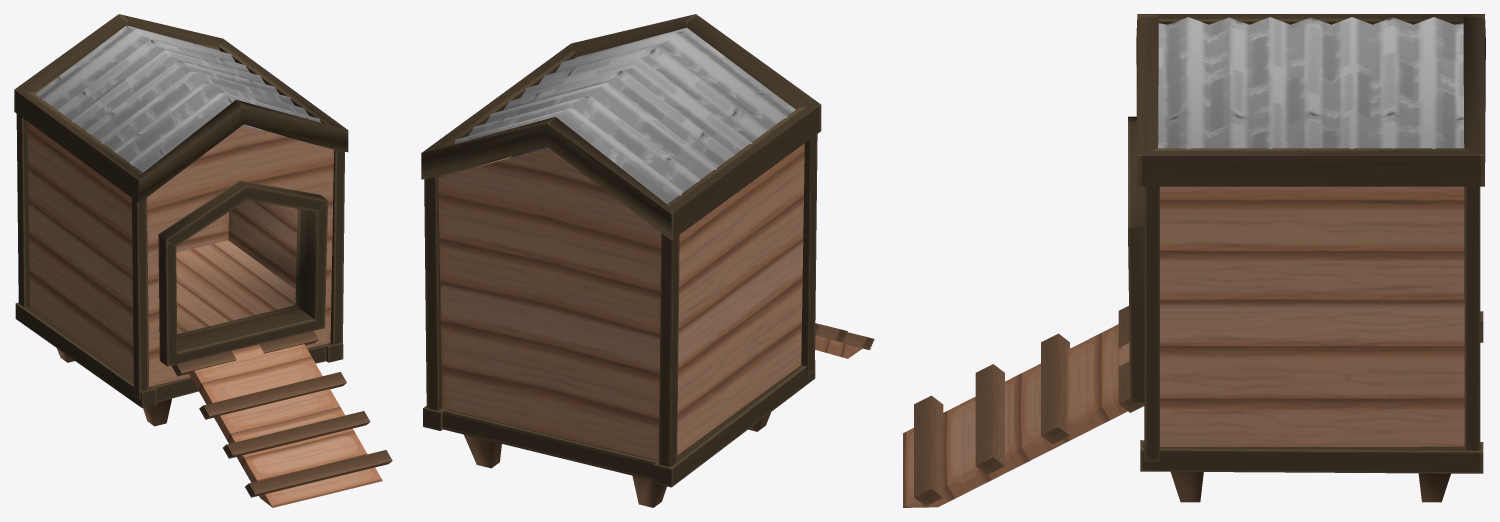
Rendered from Coop_HandObject.fbx.
The picture shows the model from 3 angles, left to right: view 1: azimuth 30°, elevation 25°; view 2: azimuth 150°, elevation 25°; view 3: azimuth 270°, elevation 25°; orthographic projection. The views are drawn at different scales.
Parts seen in each view (by area): view 1: Coop; view 2: Coop; view 3: Coop.
Boxes of the visible parts, x1=… form: Coop: x1=14, y1=14, x2=392, y2=507; Coop: x1=421, y1=14, x2=874, y2=507; Coop: x1=903, y1=14, x2=1485, y2=507.
Bounding box in the file's own units: 0.7382 × 1.11 × 1.28.
1 material, 1 textured.
